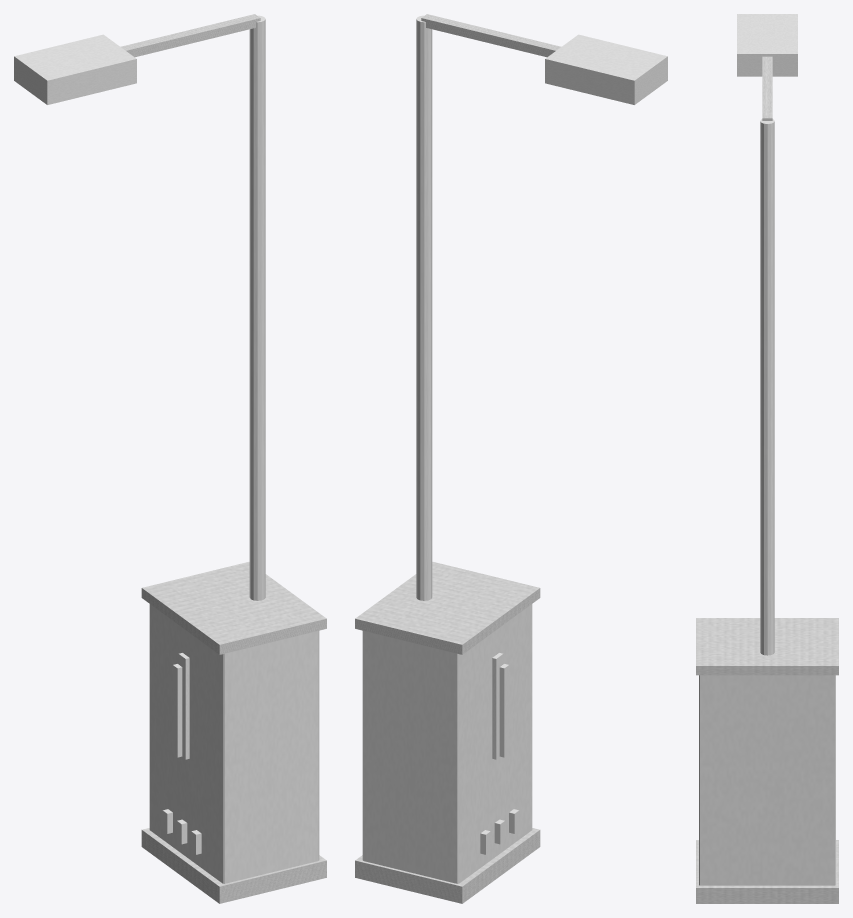
Rendered from undergroundfused1light.obj.
3 renders of one model, left to right at view 1: azimuth 30°, elevation 25°; view 2: azimuth 150°, elevation 25°; view 3: azimuth 270°, elevation 25°, orthographic. The views are drawn at different scales.
Parts seen in each view (by area): view 1: Case, Trim, Pole, LampHousing, LampBracket, Door0, Fuse0, Services; view 2: Case, Trim, Pole, LampHousing, LampBracket, Door0, Fuse0, Services; view 3: Case, Trim, Pole, LampHousing, LampBracket.
Boxes of the visible parts, x1=… form: Case: x1=149, y1=604, x2=319, y2=883; Trim: x1=141, y1=562, x2=326, y2=903; Pole: x1=249, y1=15, x2=265, y2=600; LampHousing: x1=14, y1=34, x2=136, y2=104; LampBracket: x1=120, y1=14, x2=260, y2=57; Door0: x1=172, y1=664, x2=182, y2=757; Fuse0: x1=178, y1=653, x2=189, y2=759; Services: x1=162, y1=809, x2=201, y2=854; Case: x1=362, y1=604, x2=532, y2=883; Trim: x1=355, y1=562, x2=540, y2=903; Pole: x1=416, y1=15, x2=432, y2=600; LampHousing: x1=545, y1=34, x2=667, y2=104; LampBracket: x1=421, y1=14, x2=561, y2=57; Door0: x1=499, y1=664, x2=509, y2=757; Fuse0: x1=492, y1=653, x2=503, y2=759; Services: x1=480, y1=809, x2=519, y2=854; Case: x1=699, y1=675, x2=835, y2=885; Trim: x1=696, y1=618, x2=838, y2=903; Pole: x1=760, y1=119, x2=774, y2=655; LampHousing: x1=737, y1=14, x2=797, y2=76; LampBracket: x1=762, y1=56, x2=772, y2=120.
Bounding box in the file's own units: 1.87 × 5.86 × 0.98.
